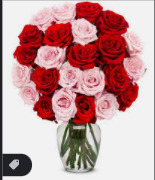RedRose: (103, 62, 133, 94), (72, 95, 99, 126), (98, 34, 126, 63), (31, 68, 59, 96), (118, 82, 142, 113), (45, 21, 72, 48), (68, 42, 97, 67), (98, 9, 126, 34), (18, 21, 43, 47), (34, 92, 54, 123), (12, 42, 35, 67), (77, 1, 104, 19)
